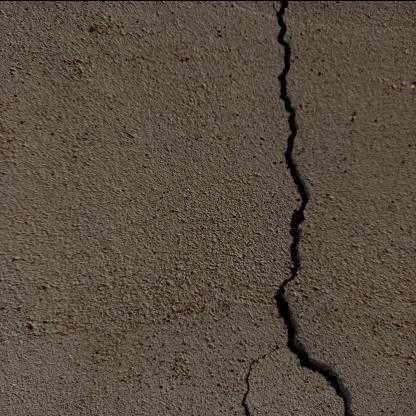crack: (274, 2, 350, 415), (240, 346, 278, 415)
